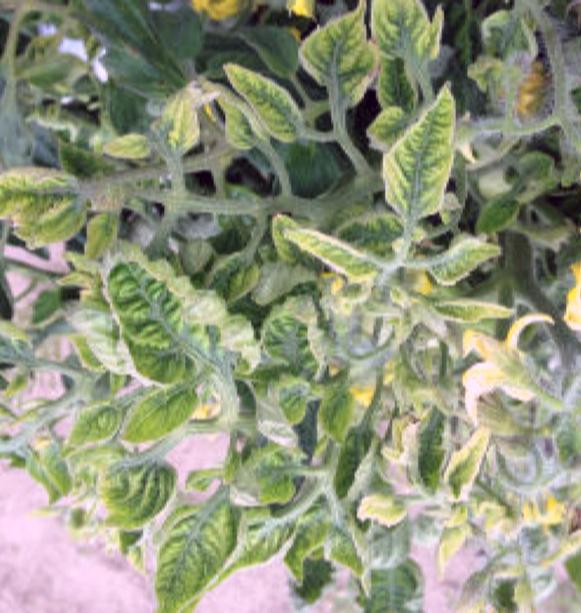Tomato leaf yellow virus: (87, 227, 268, 391), (371, 85, 475, 228), (128, 499, 241, 613), (0, 142, 99, 249), (239, 289, 350, 379), (101, 361, 213, 450), (363, 0, 482, 78), (217, 55, 311, 145), (299, 7, 384, 103), (455, 326, 569, 393)
